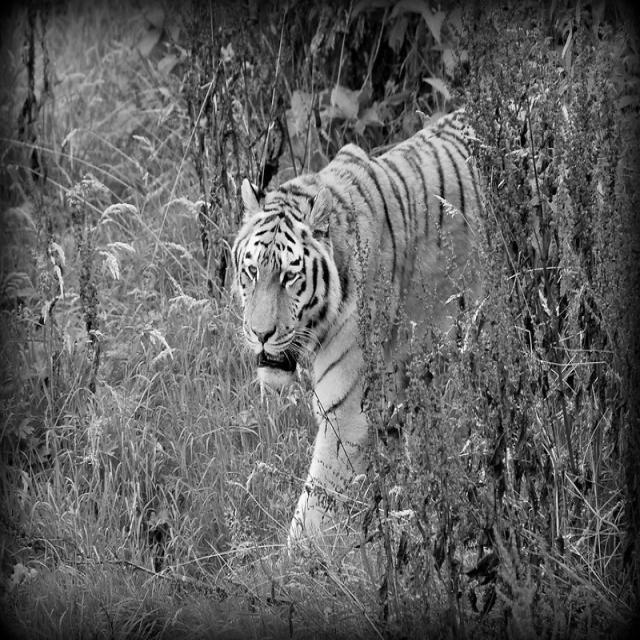Tiger: (226, 99, 533, 574)
